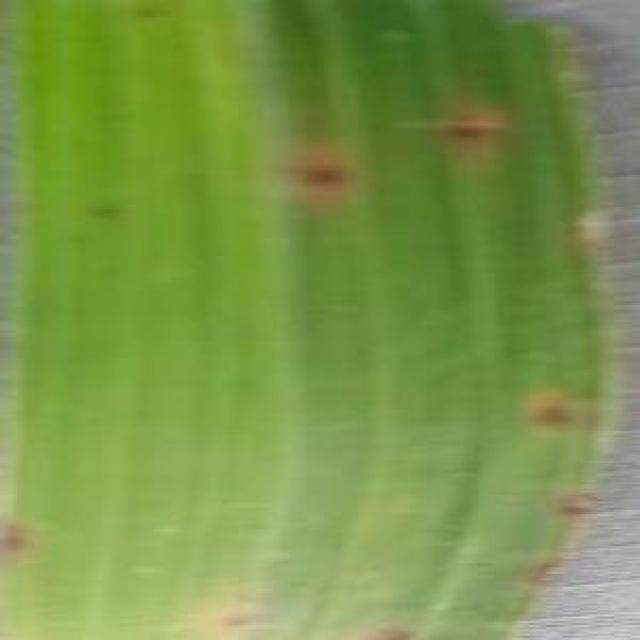Brown_Spot: (424, 88, 490, 150), (282, 149, 363, 198), (525, 377, 584, 428), (0, 510, 38, 569), (559, 494, 605, 530), (529, 556, 575, 588)
